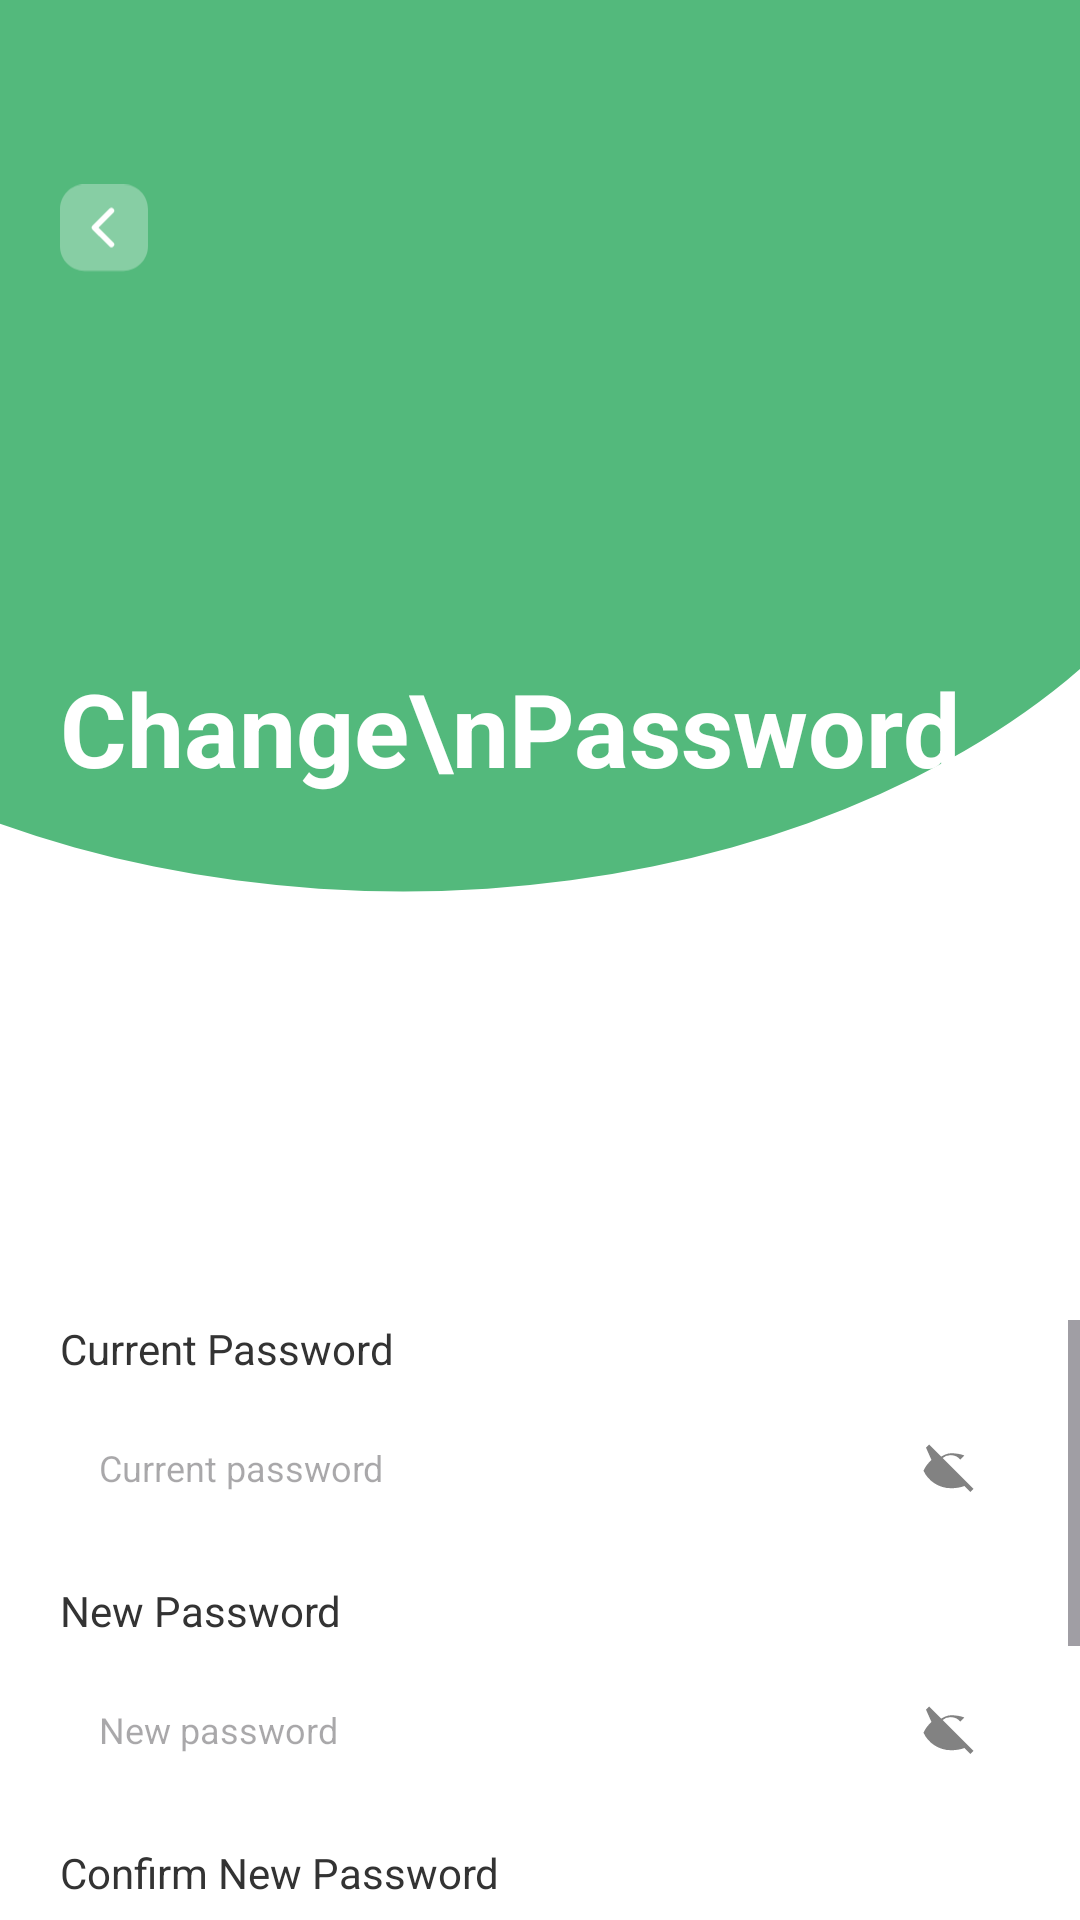

Where icons sit on this 1080w x 1920h app screen, as (x1, y1, x2, y2):
back trasparent: (60, 184, 148, 271)
eye closed: (923, 1445, 973, 1492), (923, 1707, 973, 1754)
